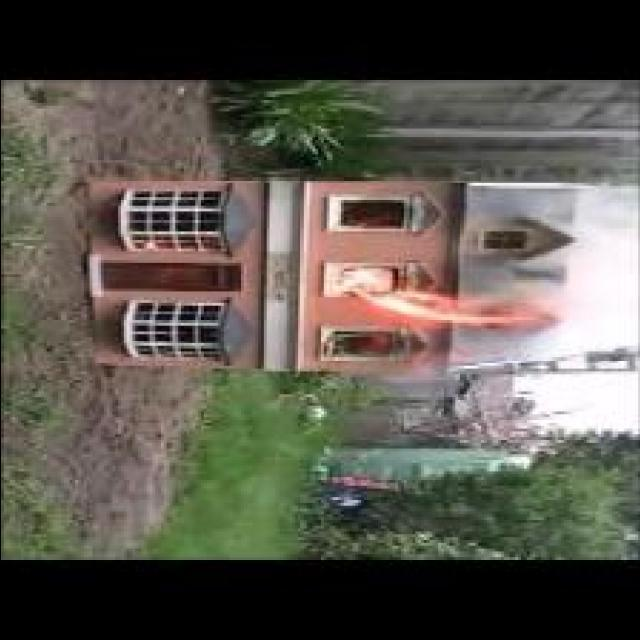Fire: (334, 271, 537, 323)
